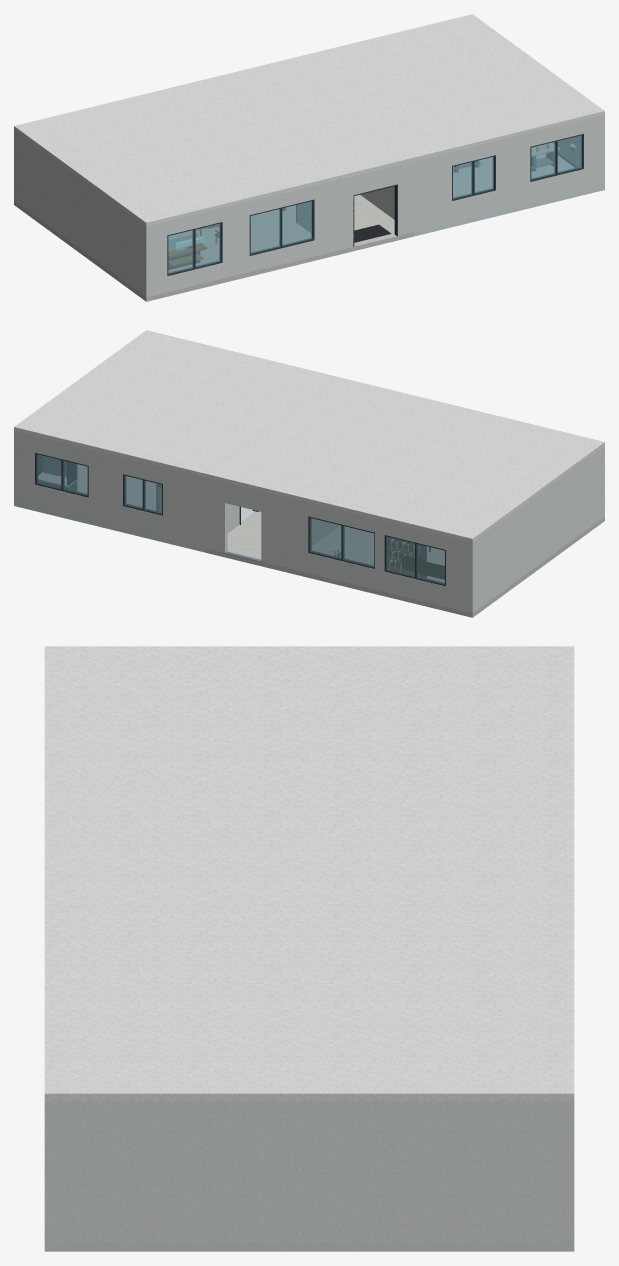
3 views of the same model, one above another, from view 1: azimuth 30°, elevation 25°; view 2: azimuth 150°, elevation 25°; view 3: azimuth 270°, elevation 25° (orthographic). The views are drawn at different scales.
Visible parts, largest first — view 1: VIS_LIB_Ceiling, VIS_LAB_Ceiling, VIS_HALL_Ceiling, VIS_LAB_Front, VIS_LIB_Wall_West, VIS_LIB_Front, VIS_LIB_Front_GLASS, VIS_LIB_Floor, VIS_LAB_Front_GLASS, VIS_LAB_Floor, VIS_HALL_Front_Wall, VIS_HALL_Floor (+7 smaller); view 2: VIS_LIB_Ceiling, VIS_LAB_Ceiling, VIS_LAB_Rear, VIS_HALL_Ceiling, VIS_LIB_Wall_West, VIS_LIB_Rear, VIS_LIB_Rear_GLASS, VIS_LIB_Floor, VIS_HALL_Rear_Wall, VIS_LAB_Rear_GLASS, VIS_LAB_Floor, VIS_HALL_Floor (+6 smaller); view 3: VIS_LAB_Ceiling, VIS_LIB_Ceiling, VIS_LAB_Wall_East, VIS_HALL_Ceiling, VIS_LAB_Floor, VIS_LAB_Front, VIS_LAB_Rear.
Part boxes in pixels (x1=…): VIS_LIB_Ceiling: x1=14, y1=79, x2=337, y2=226; VIS_LAB_Ceiling: x1=282, y1=14, x2=604, y2=161; VIS_HALL_Ceiling: x1=205, y1=60, x2=413, y2=179; VIS_LAB_Front: x1=414, y1=116, x2=604, y2=231; VIS_LIB_Wall_West: x1=14, y1=131, x2=150, y2=296; VIS_LIB_Front: x1=144, y1=180, x2=337, y2=297; VIS_LIB_Front_GLASS: x1=168, y1=201, x2=312, y2=273; VIS_LIB_Floor: x1=14, y1=201, x2=337, y2=301; VIS_LAB_Front_GLASS: x1=453, y1=135, x2=581, y2=198; VIS_LAB_Floor: x1=414, y1=154, x2=604, y2=236; VIS_HALL_Front_Wall: x1=337, y1=162, x2=413, y2=250; VIS_HALL_Floor: x1=284, y1=195, x2=413, y2=255; VIS_LIB_Ceiling: x1=281, y1=395, x2=604, y2=542; VIS_LAB_Ceiling: x1=14, y1=330, x2=336, y2=477; VIS_LAB_Rear: x1=14, y1=431, x2=204, y2=547; VIS_HALL_Ceiling: x1=205, y1=376, x2=413, y2=495; VIS_LIB_Wall_West: x1=470, y1=448, x2=602, y2=612; VIS_LIB_Rear: x1=281, y1=496, x2=474, y2=613; VIS_LIB_Rear_GLASS: x1=310, y1=518, x2=444, y2=583; VIS_LIB_Floor: x1=281, y1=517, x2=604, y2=617; VIS_HALL_Rear_Wall: x1=205, y1=477, x2=281, y2=566; VIS_LAB_Rear_GLASS: x1=37, y1=454, x2=161, y2=513; VIS_LAB_Floor: x1=14, y1=464, x2=254, y2=552; VIS_HALL_Floor: x1=205, y1=511, x2=281, y2=571; VIS_LAB_Ceiling: x1=44, y1=907, x2=574, y2=1101; VIS_LIB_Ceiling: x1=44, y1=646, x2=574, y2=832; VIS_LAB_Wall_East: x1=44, y1=1101, x2=574, y2=1242; VIS_HALL_Ceiling: x1=44, y1=832, x2=574, y2=907; VIS_LAB_Floor: x1=44, y1=1243, x2=574, y2=1251; VIS_LAB_Front: x1=44, y1=1101, x2=54, y2=1242; VIS_LAB_Rear: x1=564, y1=1101, x2=574, y2=1242.
Size of the model in its own units: 24 by 3.95 by 12.
Materials: 26 (26 with a texture image).
